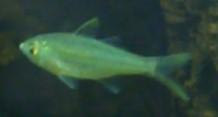Glass Perchlet: (18, 16, 193, 103)
